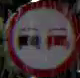No overtake: (4, 0, 76, 77)
